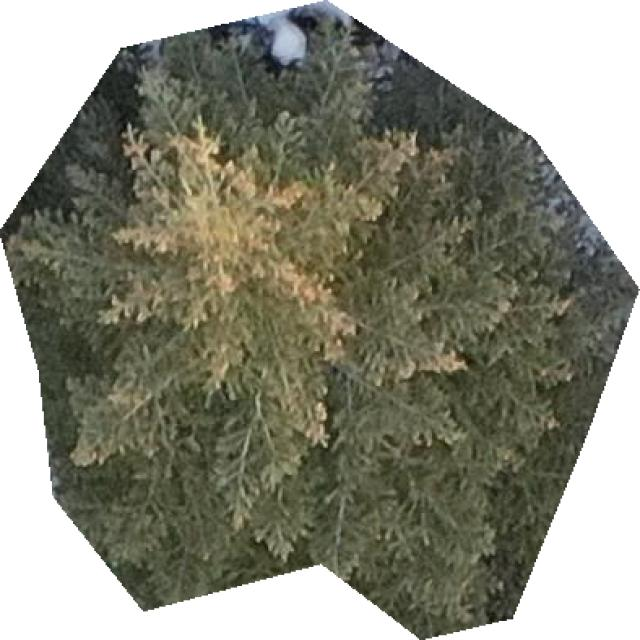spruce: (0, 2, 638, 638)
